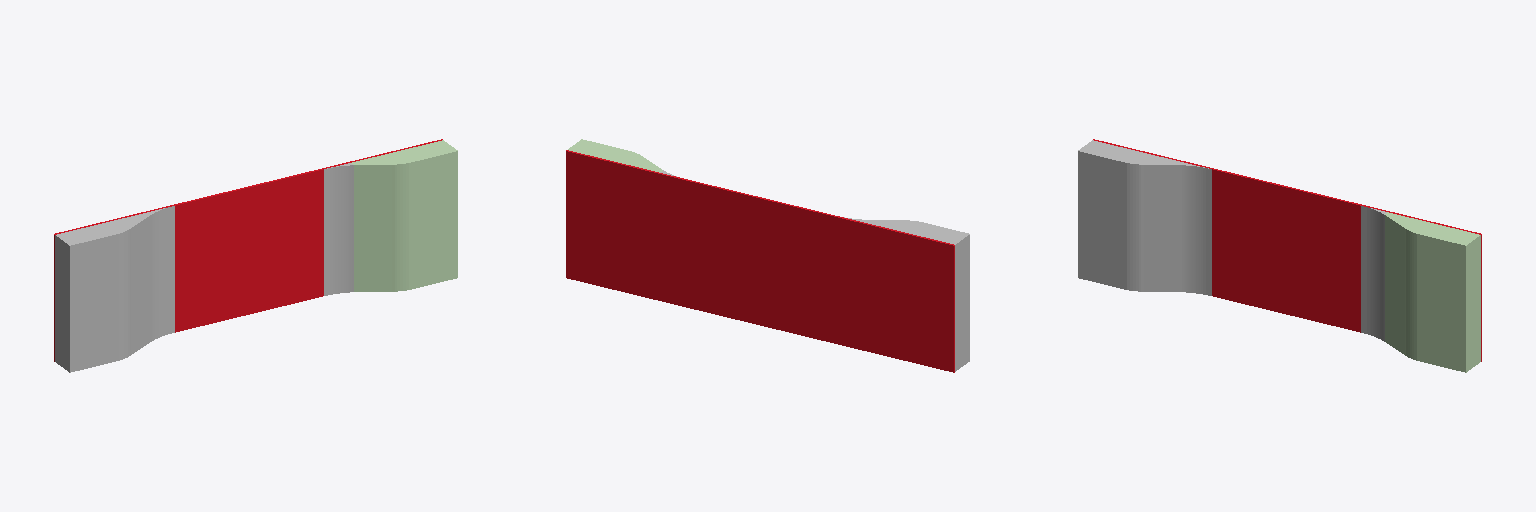
The model's file is table.obj.
The picture shows the model from 3 angles: view 1: azimuth 30°, elevation 25°; view 2: azimuth 150°, elevation 25°; view 3: azimuth 330°, elevation 25°; orthographic projection.
Visible parts, largest first — view 1: obj_0; view 2: obj_0; view 3: obj_0.
Part boxes in pixels (x1,y1,x2,y2): obj_0: (54,139,457,372); obj_0: (566,139,969,372); obj_0: (1078,139,1481,372).
Size of the model in its own units: 160 by 50 by 11.6.